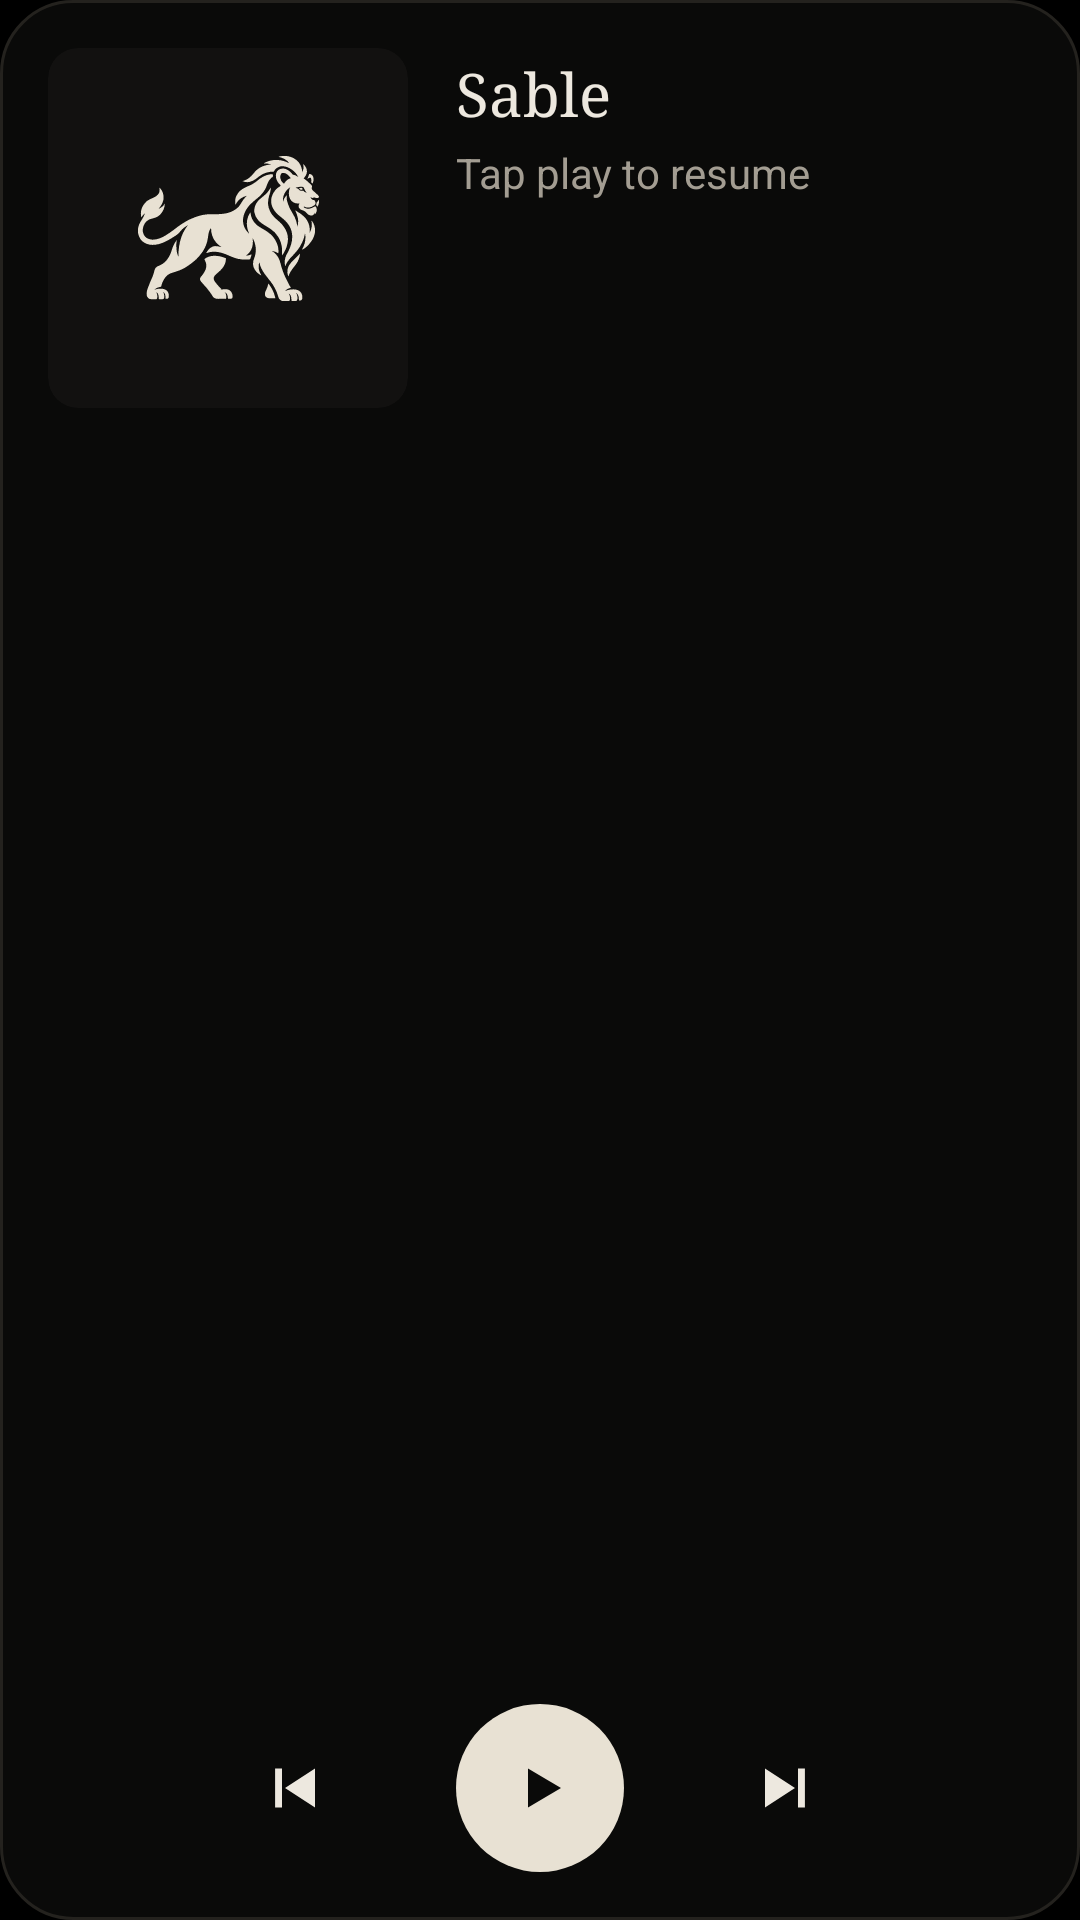

Where icons sit on this 1080w x 1920h app screen, as (x1, y1, x2, y2):
Next song: (765, 1768, 805, 1808)
Play or pause: (456, 1704, 624, 1872)
Previous song: (275, 1768, 315, 1808)
widget lion: (138, 156, 319, 301)
